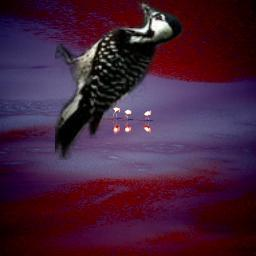Woodpecker: (55, 0, 185, 160)
